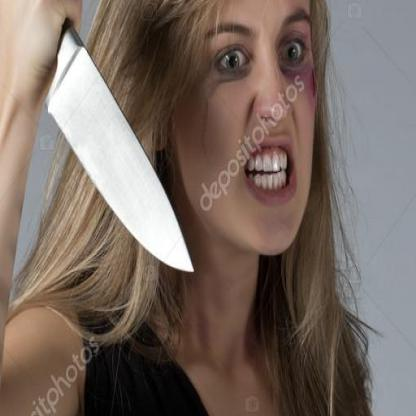knife: (22, 0, 202, 289)
